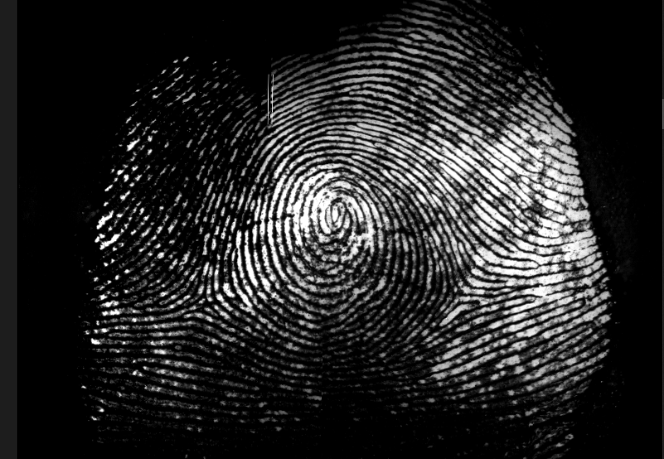nucelo: (316, 188, 357, 240)
verticilo: (433, 280, 491, 308), (183, 280, 222, 318)
